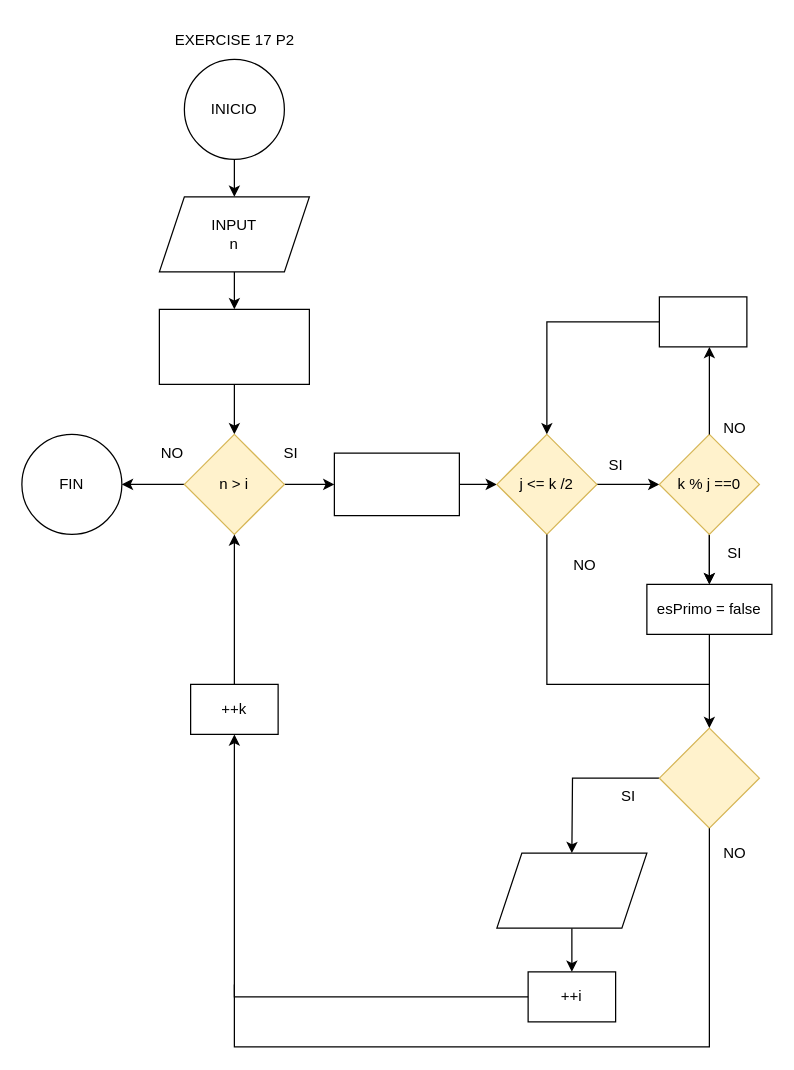
This 794x1070 diagram has some shape labels left out. The shapes that lost their labels are listed below. From the top down, each one's centre as x and y in pixels, then its label:
[702,321]: ++j
[233,346]: i = 0 k = 2 esPrimo j = 2
[396,484]: esPrimo = true
[708,777]: esPrimo
[571,890]: OUTPUT k, " "
